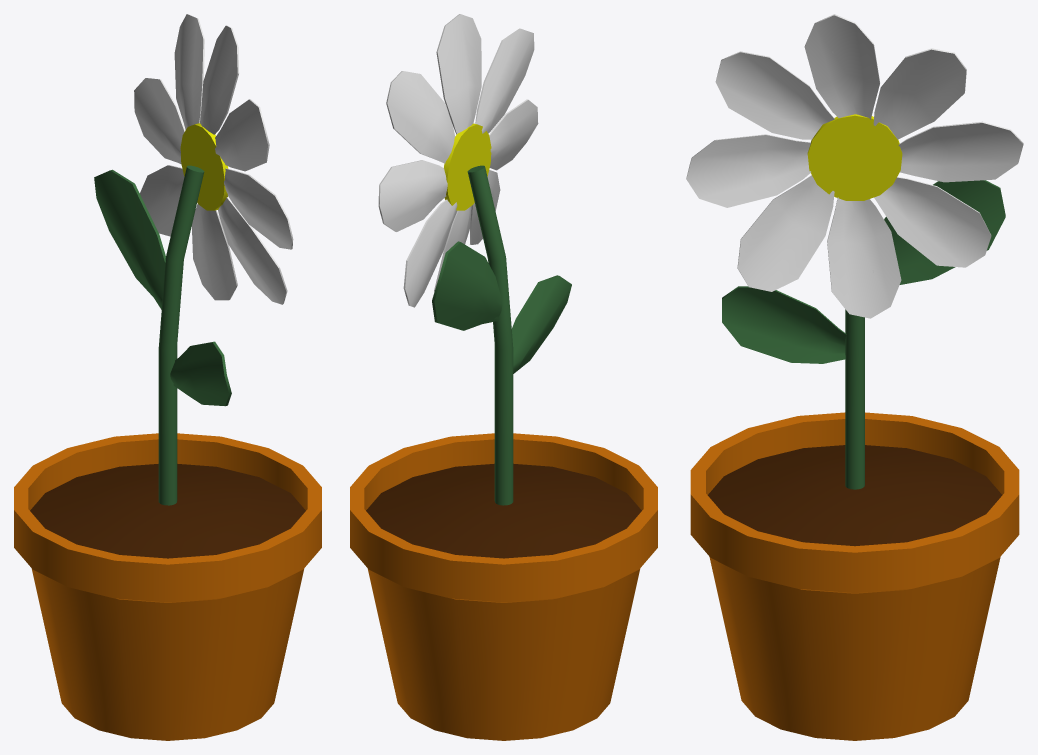
Rendered from Flower.fbx.
3 views of the same model, side by side, from view 1: azimuth 30°, elevation 25°; view 2: azimuth 150°, elevation 25°; view 3: azimuth 270°, elevation 25° (orthographic). The views are drawn at different scales.
Visible parts, largest first — view 1: polySurface19, polySurface24, polySurface18, polySurface16, polySurface14; view 2: polySurface19, polySurface24, polySurface18, polySurface16, polySurface14; view 3: polySurface19, polySurface24, polySurface18, polySurface16, polySurface14.
Part boxes in pixels (x1,y1,x2,y2): polySurface19: [14, 433, 321, 740]; polySurface24: [134, 14, 293, 304]; polySurface18: [30, 464, 305, 558]; polySurface16: [94, 165, 231, 505]; polySurface14: [180, 123, 228, 210]; polySurface19: [350, 433, 657, 740]; polySurface24: [378, 14, 538, 307]; polySurface18: [366, 463, 641, 558]; polySurface16: [432, 165, 571, 505]; polySurface14: [444, 123, 491, 210]; polySurface19: [690, 412, 1019, 740]; polySurface24: [686, 14, 1023, 318]; polySurface18: [707, 445, 1002, 546]; polySurface16: [722, 180, 1005, 489]; polySurface14: [807, 114, 902, 200].
Size of the model in its own units: 2.2 by 5.15 by 2.23.
